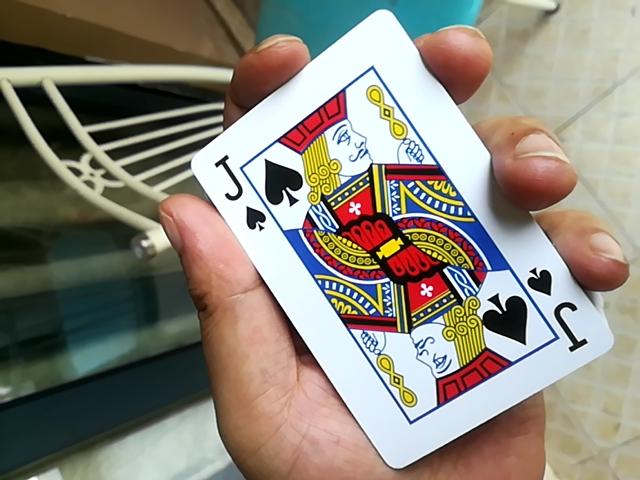ht j: (181, 14, 607, 476)
